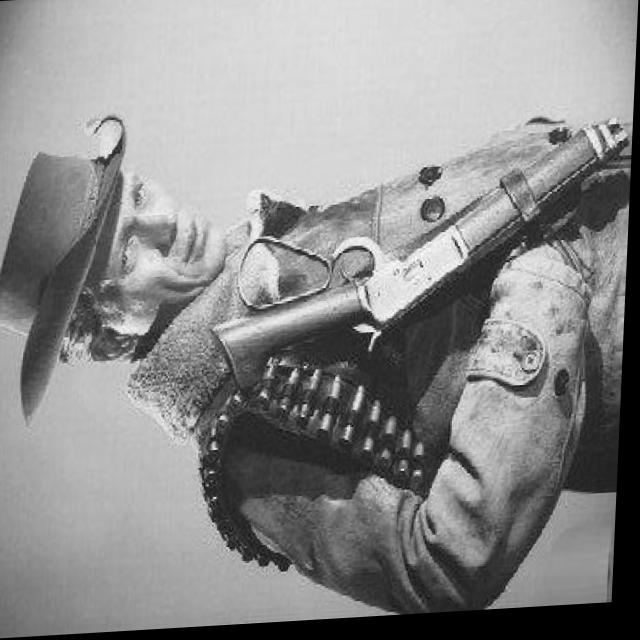handgun: (232, 118, 619, 405)
